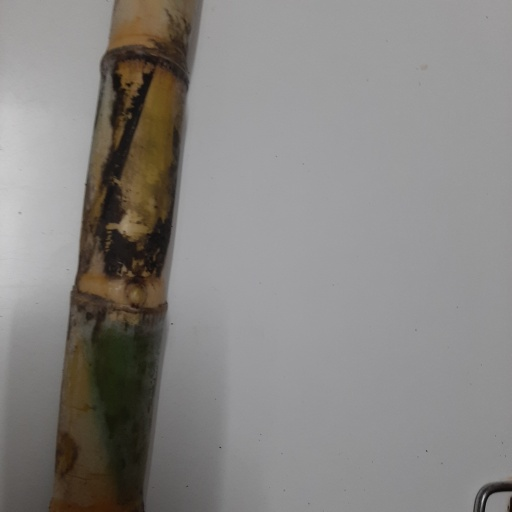Bud: (125, 278, 149, 314)
